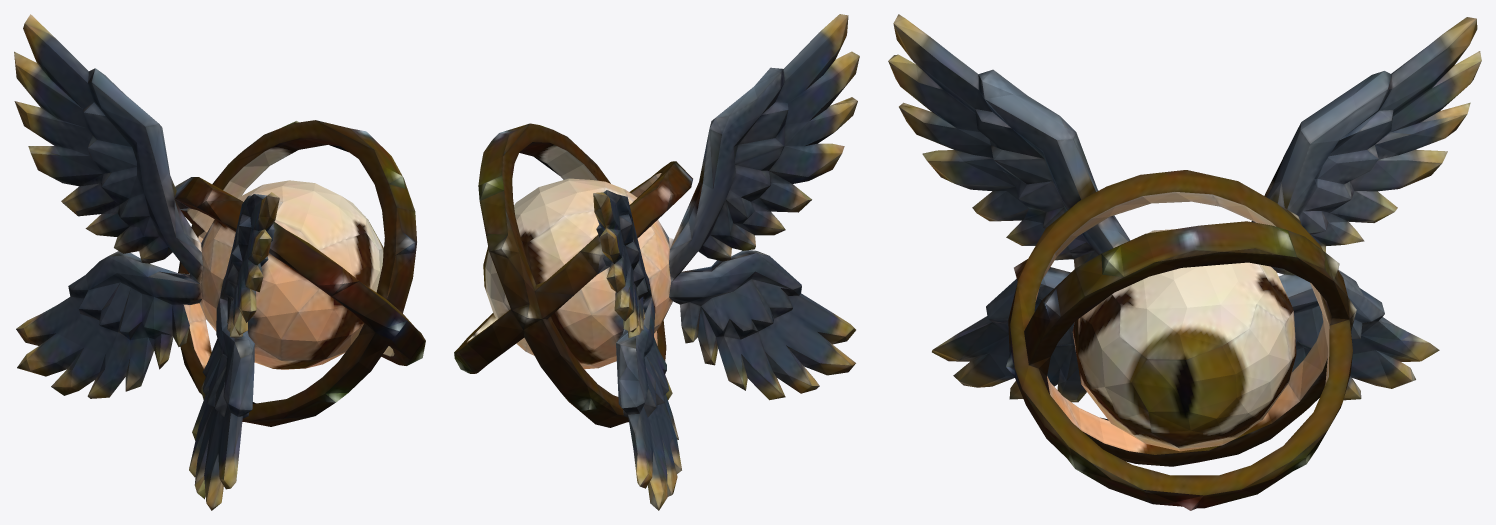
The model's file is foe_radiantEye.glb.
3 views of the same model, side by side, from view 1: azimuth 30°, elevation 25°; view 2: azimuth 150°, elevation 25°; view 3: azimuth 270°, elevation 25° (orthographic). The views are drawn at different scales.
Parts seen in each view (by area): view 1: tripo_node_174b9101-9efc-474e-84c9-ea733c7111ca.001; view 2: tripo_node_174b9101-9efc-474e-84c9-ea733c7111ca.001; view 3: tripo_node_174b9101-9efc-474e-84c9-ea733c7111ca.001.
Part boxes in pixels (x1,y1,x2,y2): tripo_node_174b9101-9efc-474e-84c9-ea733c7111ca.001: (14,14,425,510); tripo_node_174b9101-9efc-474e-84c9-ea733c7111ca.001: (454,14,859,510); tripo_node_174b9101-9efc-474e-84c9-ea733c7111ca.001: (888,14,1481,510).
Size of the model in its own units: 0.6447 by 0.731 by 0.9949.
Materials: 1 (1 with a texture image).
